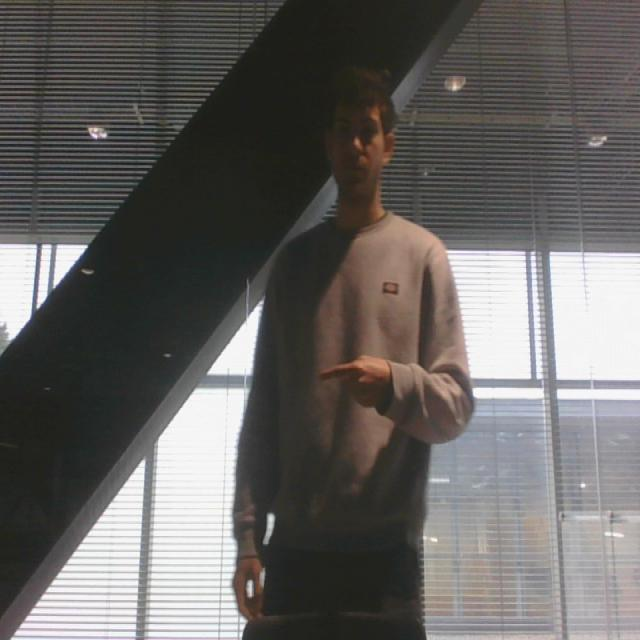left: (313, 352, 397, 417)
